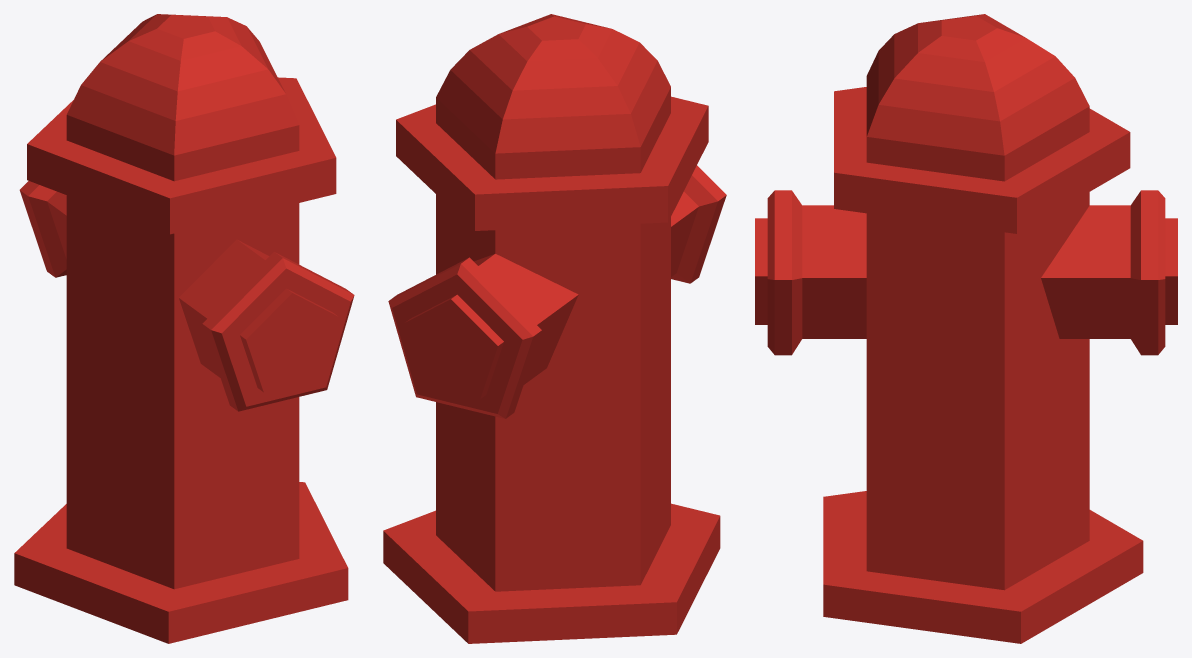
The model's file is Fhydrant.fbx.
3 renders of one model, left to right at view 1: azimuth 30°, elevation 25°; view 2: azimuth 150°, elevation 25°; view 3: azimuth 270°, elevation 25°, orthographic.
Parts seen in each view (by area): view 1: Fire Hydrant; view 2: Fire Hydrant; view 3: Fire Hydrant.
Part boxes in pixels (left/top/right/bottom): Fire Hydrant: left=14, top=14, right=354, bottom=643; Fire Hydrant: left=383, top=14, right=726, bottom=643; Fire Hydrant: left=755, top=14, right=1177, bottom=643.
Size of the model in its own units: 47.8 by 85.44 by 60.09.
